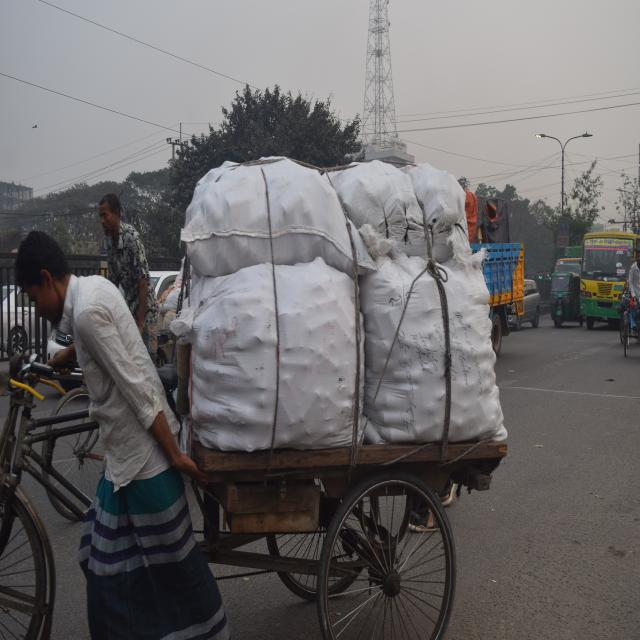bus: (576, 214, 640, 329)
truck: (448, 187, 533, 362)
